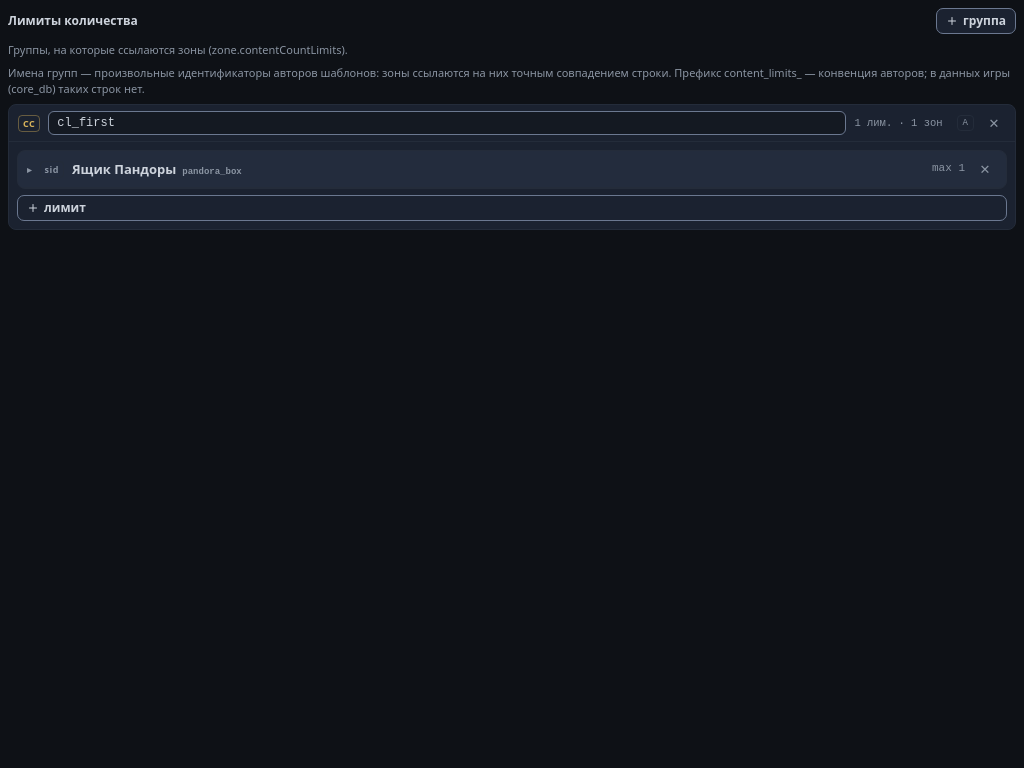
Test: удаление корневой группы (ContentLimitsPanel) › «Удалить» убирает последнюю группу: пустая панель и вычищенные ссылки
Click the button titled "Удалить группу" in the row of "1 лим. · 1 зон" at (994, 123), box [982,111,1006,135]
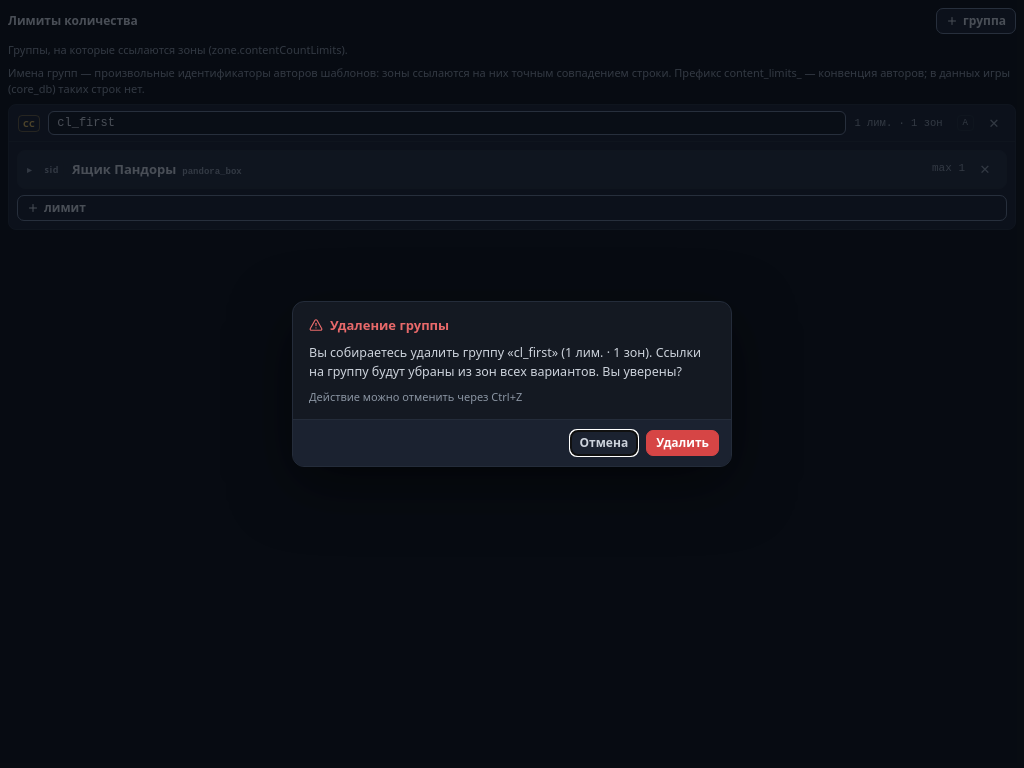
Click the button "Удалить" at (683, 443), box [646,430,719,456]
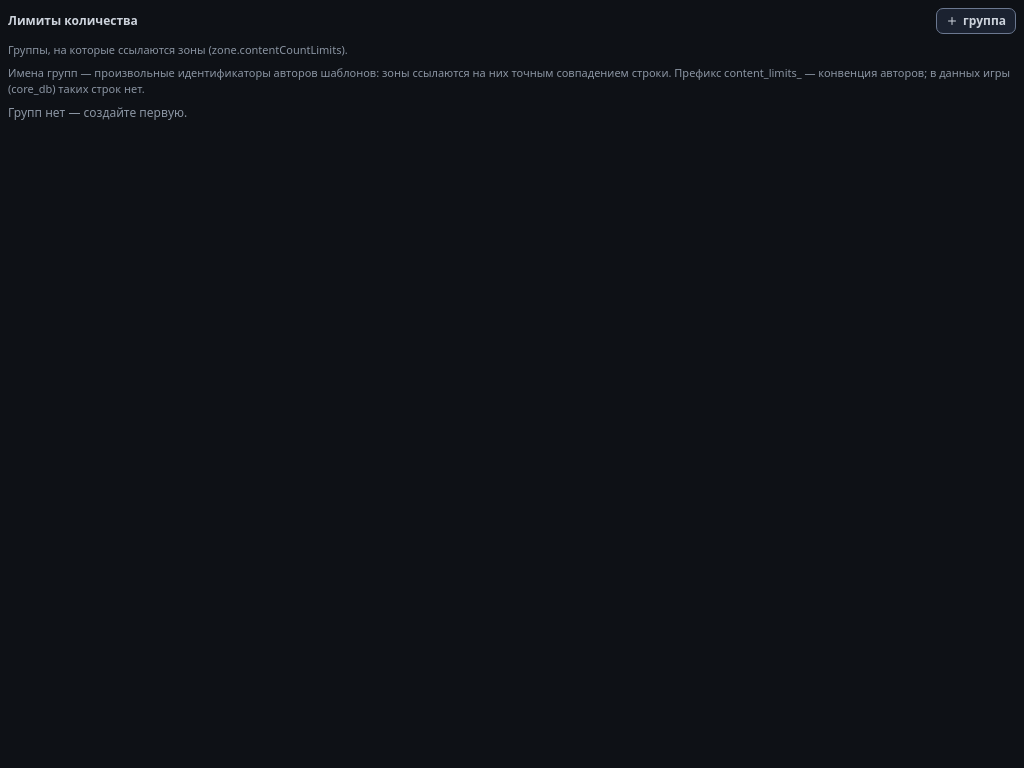
Check: the element with id "clg-cl_first" is gone
Check: the text "Групп нет — создайте первую." is shown, box [8,104,187,121]
